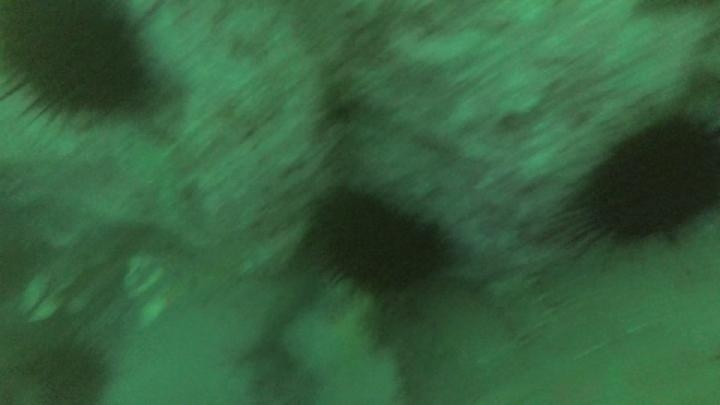echinus: (561, 109, 720, 252), (1, 2, 160, 128), (310, 182, 454, 303), (23, 331, 115, 404)
